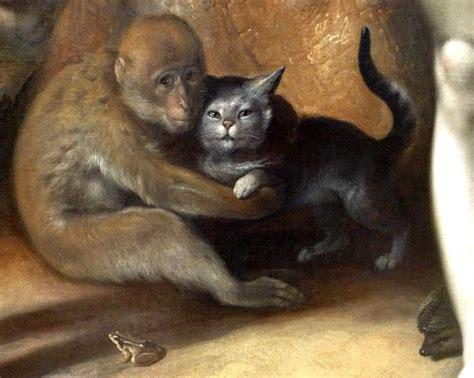cat: (201, 27, 416, 272)
monkey: (15, 13, 301, 309)
